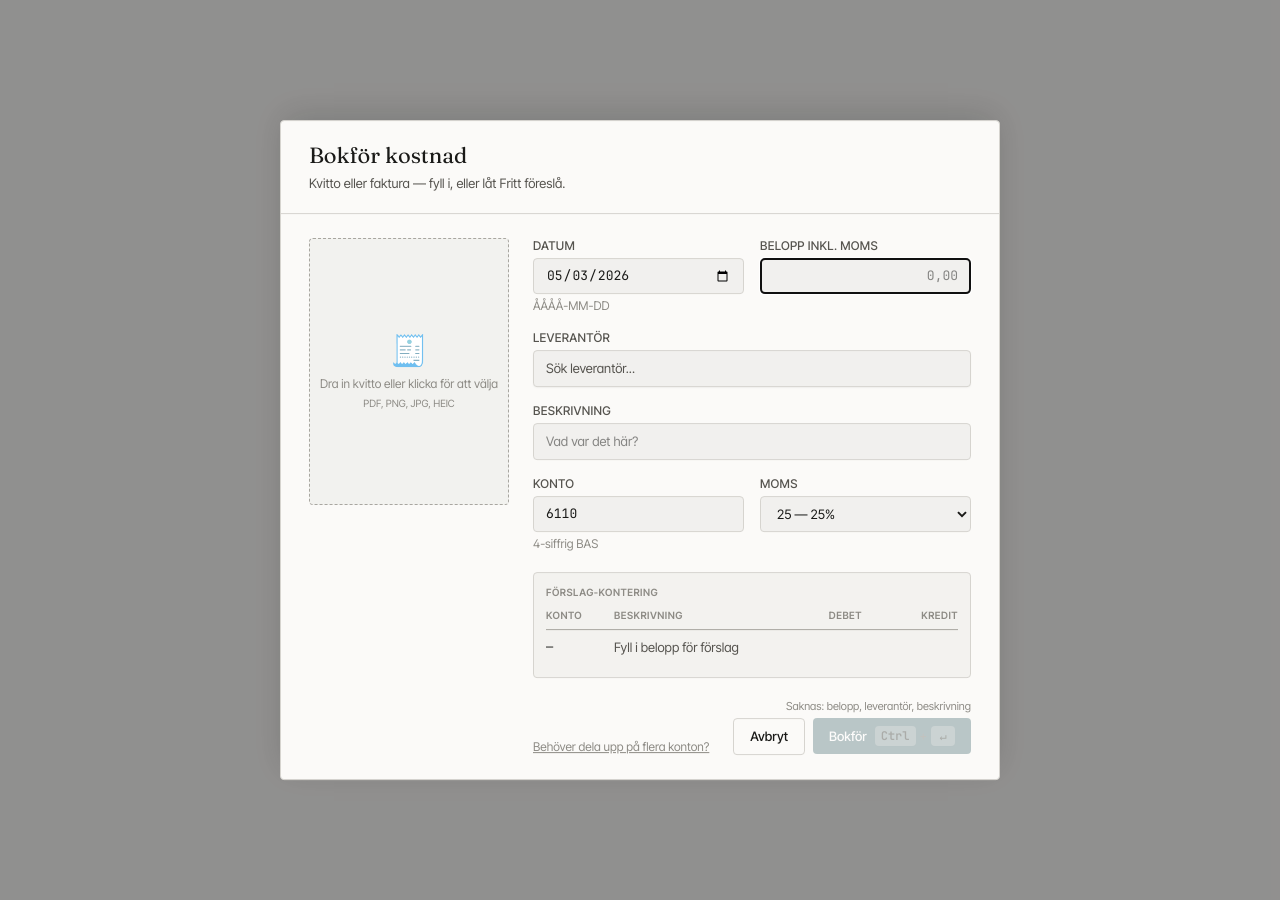
Sprint VS-3 — BokforKostnadSheet › VS-12 cross-platform: backslash-paths visar bara filnamn
The image size is (1280, 900).
Click the button with test id "vardag-kostnad-receipt-pick" at (409, 371), box [309, 238, 509, 505]
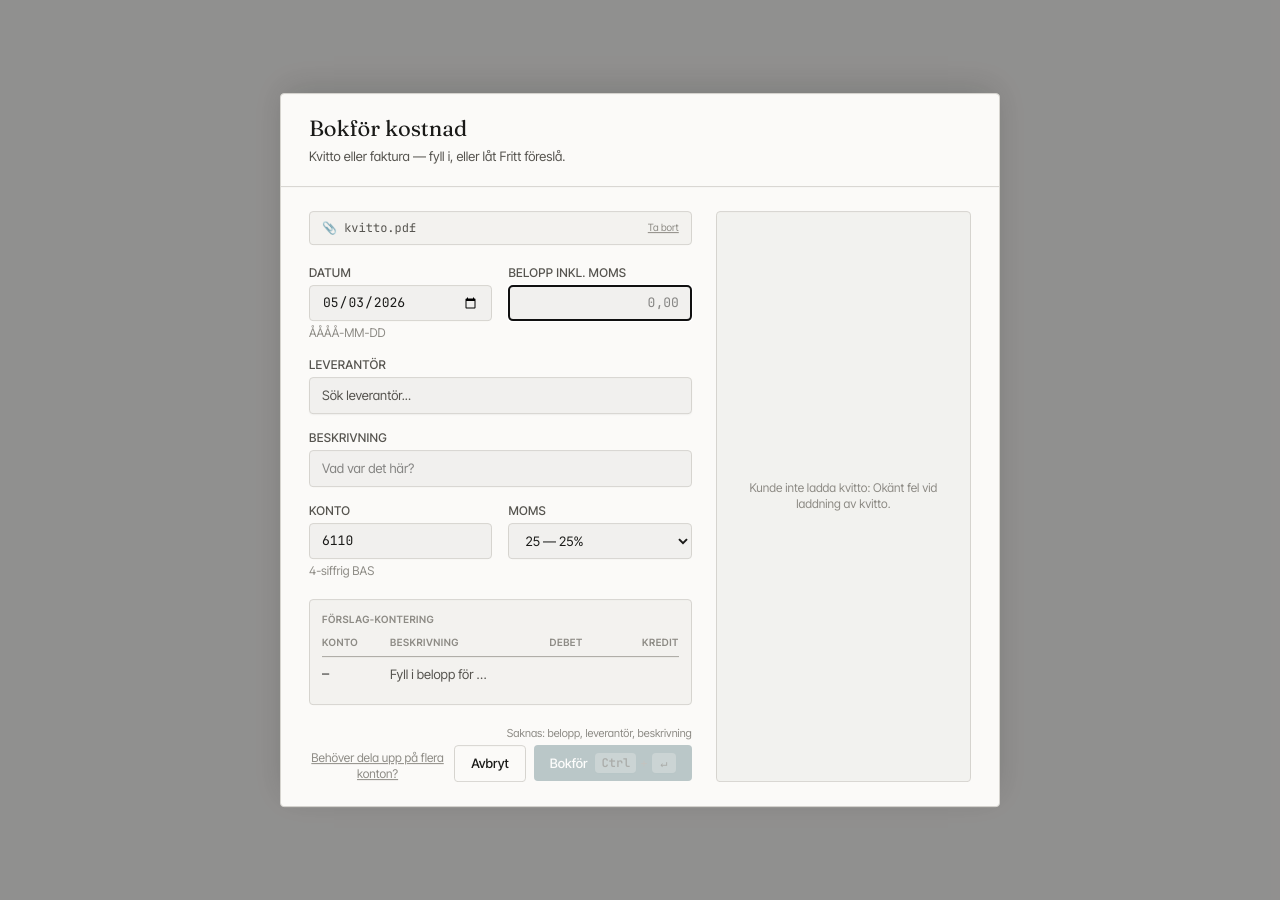
Expected: the text with test id "vardag-kostnad-receipt-attached" shows "kvitto.pdf", [344, 220, 416, 236]
